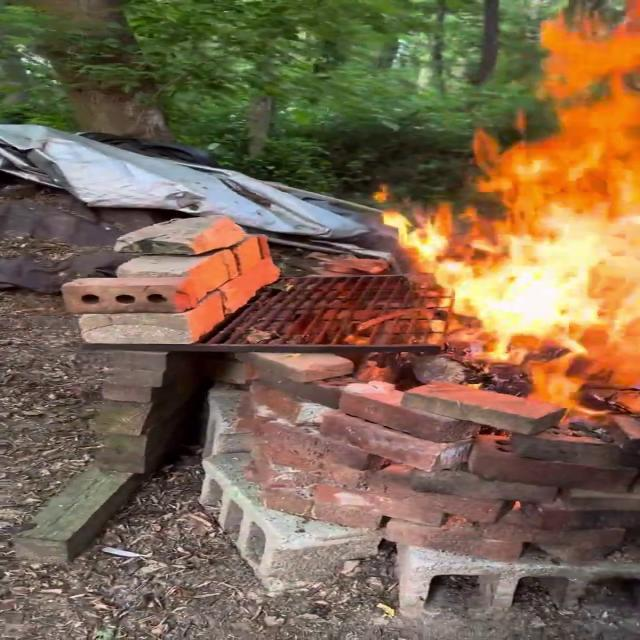Fire: (372, 1, 640, 377)
